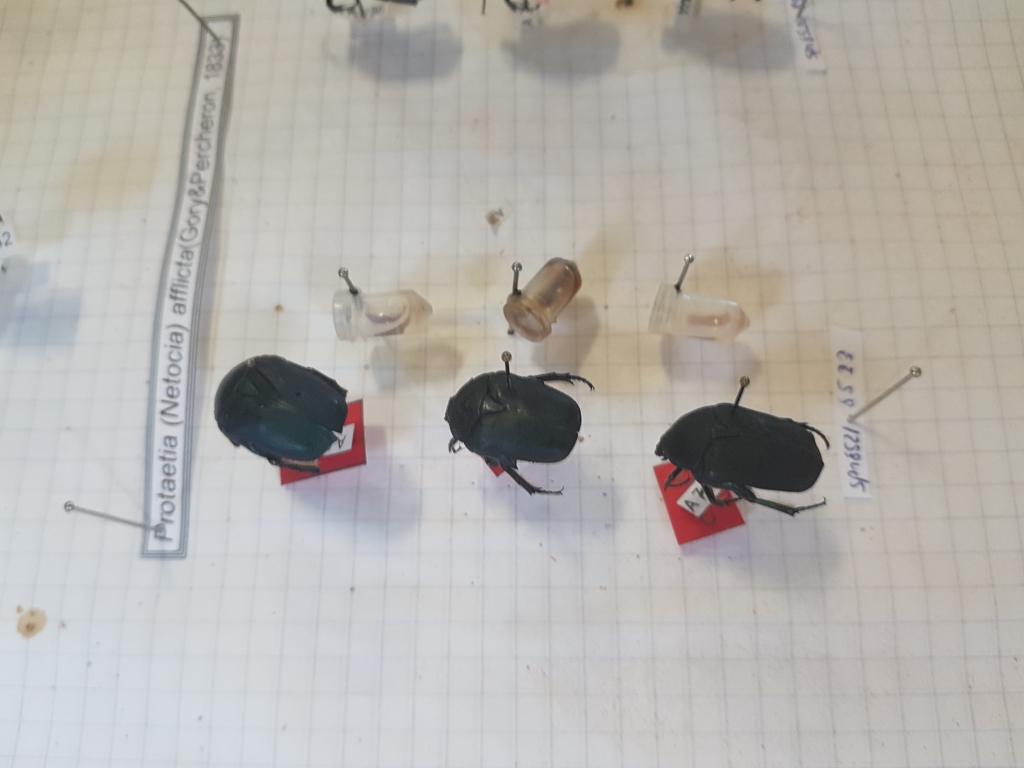Protaetia_afflicta: (646, 392, 835, 540), (426, 353, 594, 500), (212, 350, 363, 481)
